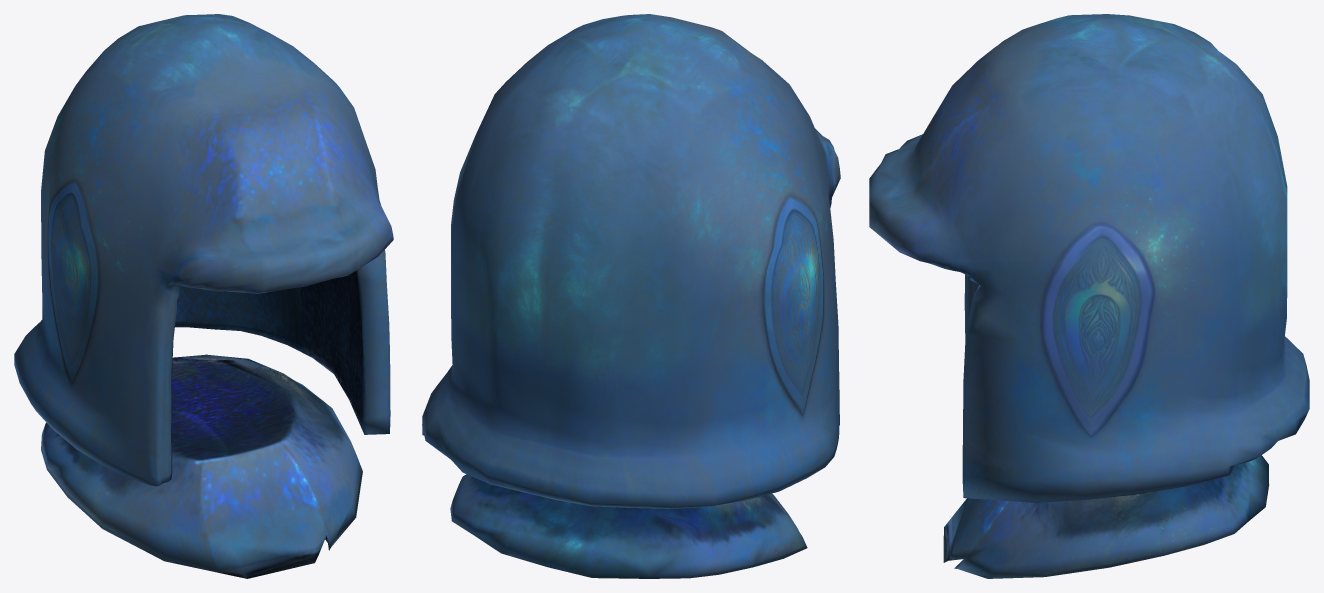
The model's file is helmet-metal-mithril_backup.glb.
3 views of the same model, side by side, from view 1: azimuth 30°, elevation 25°; view 2: azimuth 150°, elevation 25°; view 3: azimuth 270°, elevation 25° (orthographic). The views are drawn at different scales.
Size of the model in its own units: 1.34 by 1.99 by 1.51.
Materials: 1 (1 with a texture image).
